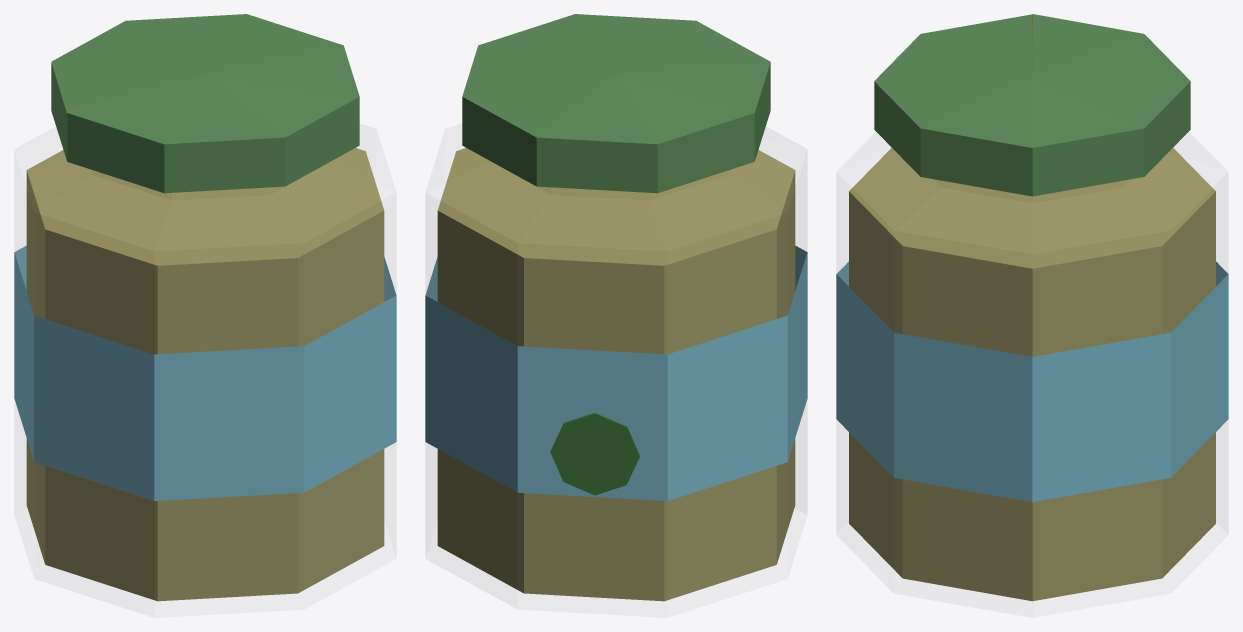
Rendered from Couscous.fbx.
The picture shows the model from 3 angles, left to right: view 1: azimuth 30°, elevation 25°; view 2: azimuth 150°, elevation 25°; view 3: azimuth 270°, elevation 25°; orthographic projection.
Visible parts, largest first — view 1: pCylinder9; view 2: pCylinder9; view 3: pCylinder9.
Part boxes in pixels (x1,y1,x2,y2): pCylinder9: [14, 14, 396, 617]; pCylinder9: [425, 14, 807, 617]; pCylinder9: [836, 14, 1228, 617].
Size of the model in its own units: 2 by 2.58 by 2.
